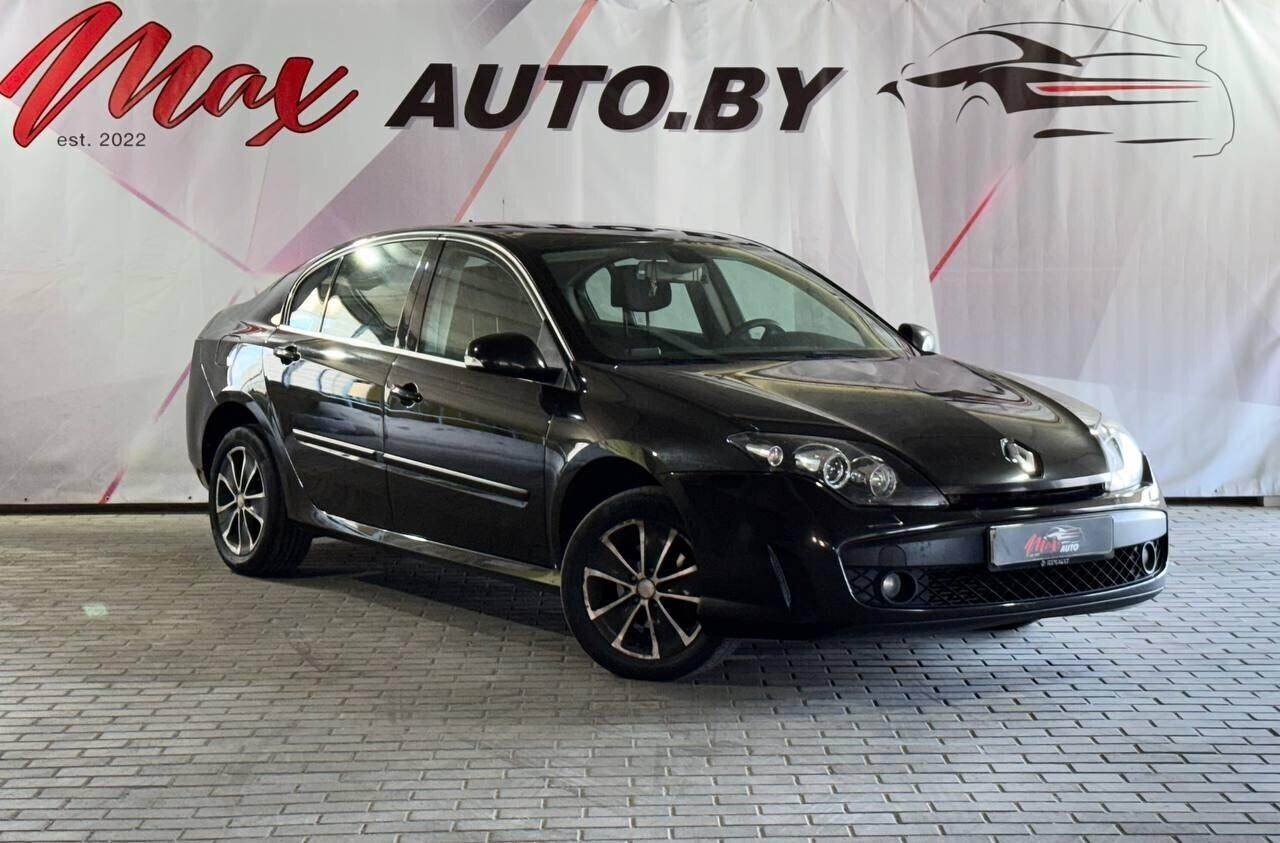Laguna_2007-2011: (186, 223, 1169, 680)
